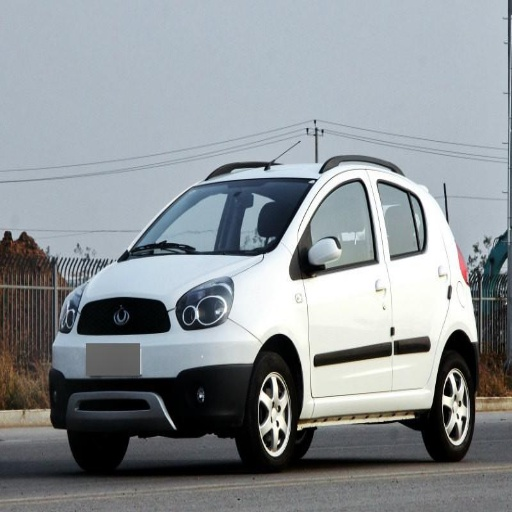back_left_door: (370, 174, 449, 391)
front_bumper: (51, 289, 260, 434)
front_glass: (121, 179, 313, 260)
front_left_door: (299, 172, 391, 400)
